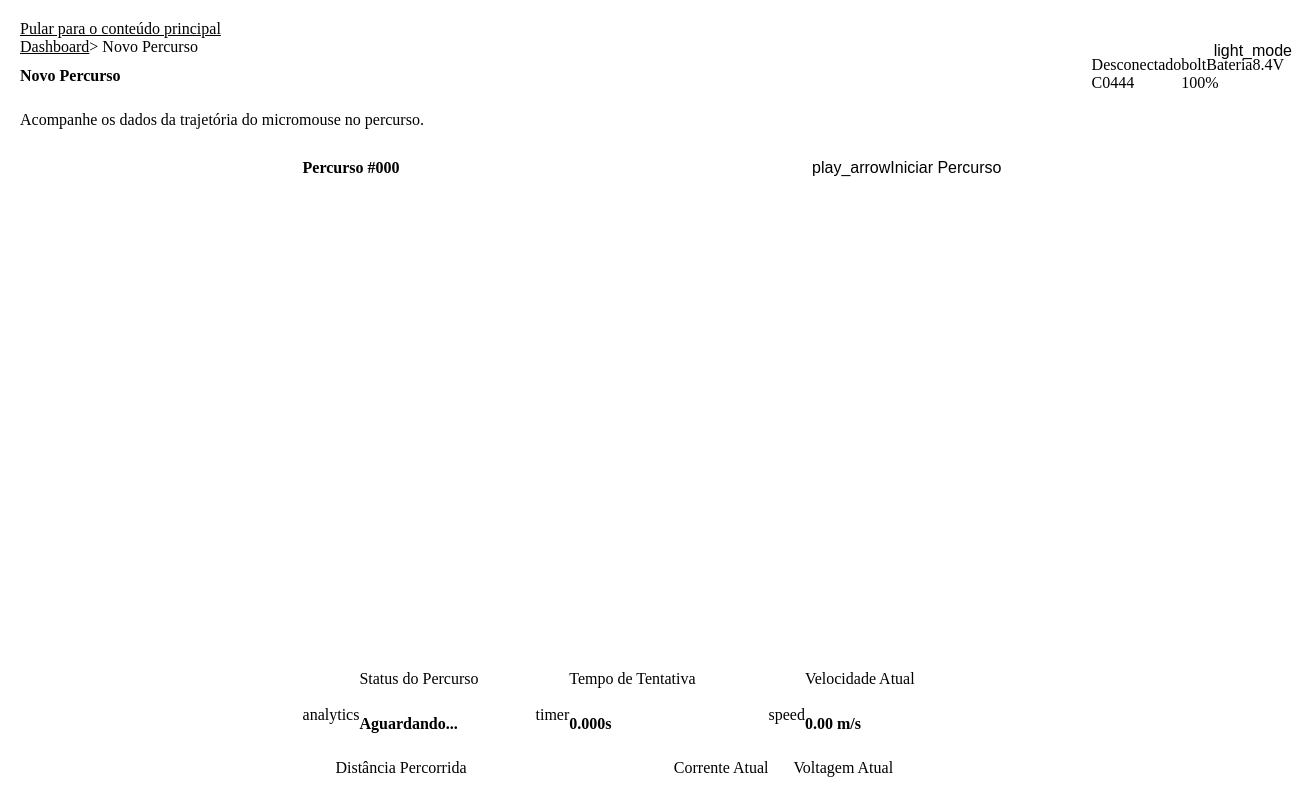
Test: Fluxo do Sistema XAROPI › Deve iniciar um percurso e responder aos comandos
What coordinates should you click on to do the following:
click the button "play_arrow Iniciar Percurso"
I would click on:
 (907, 168)
Its box is [812,159,1001,177].
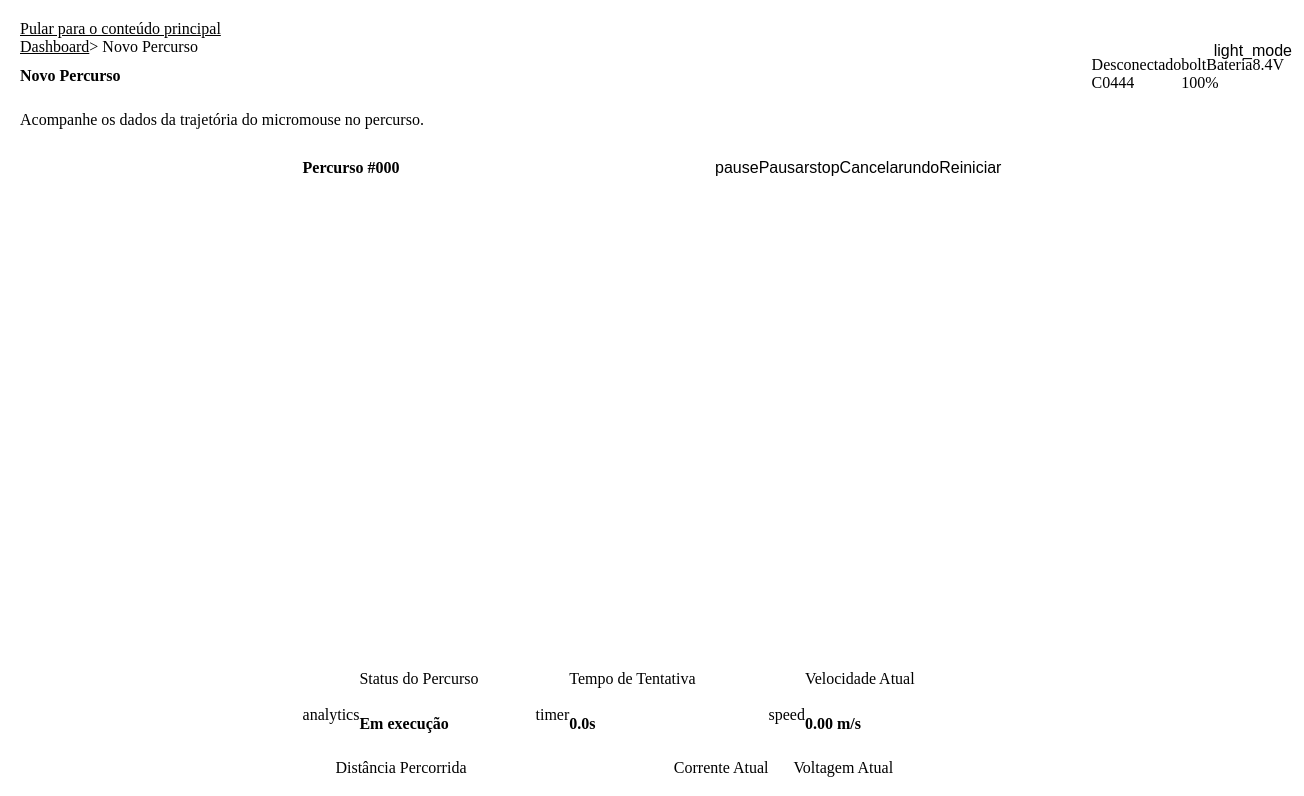
Check: the heading "Em execução" is shown, box [359,715,449,733]
